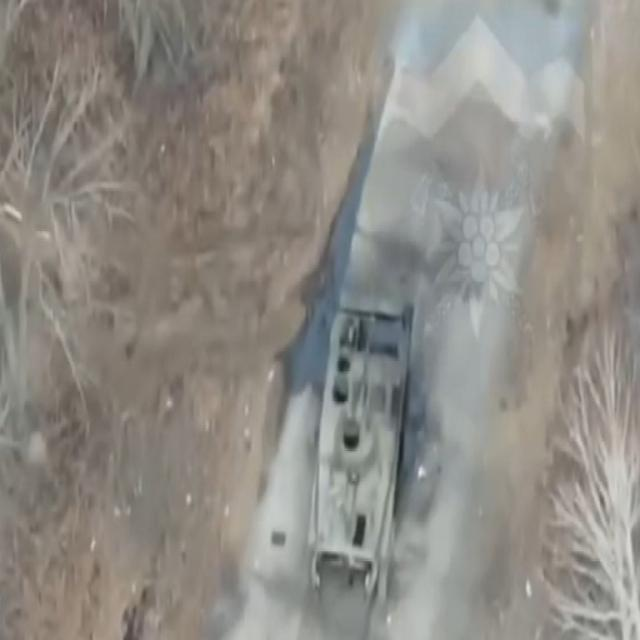APC-IFV: (305, 282, 410, 594)
